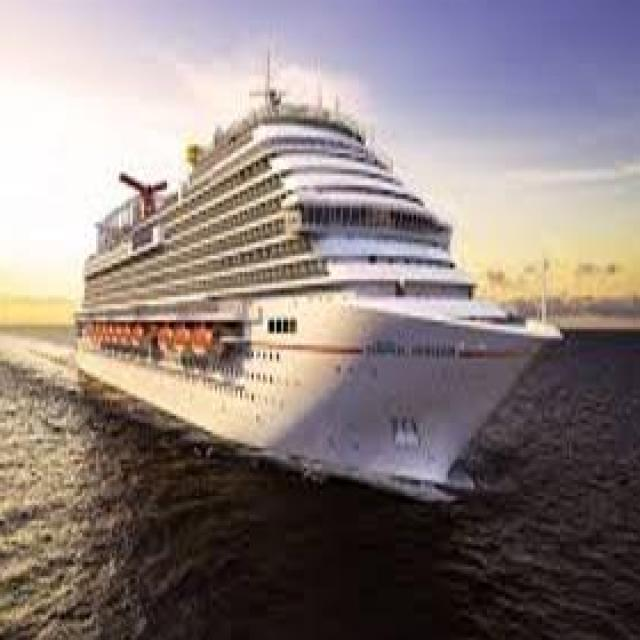passenger ship: (70, 68, 559, 490)
